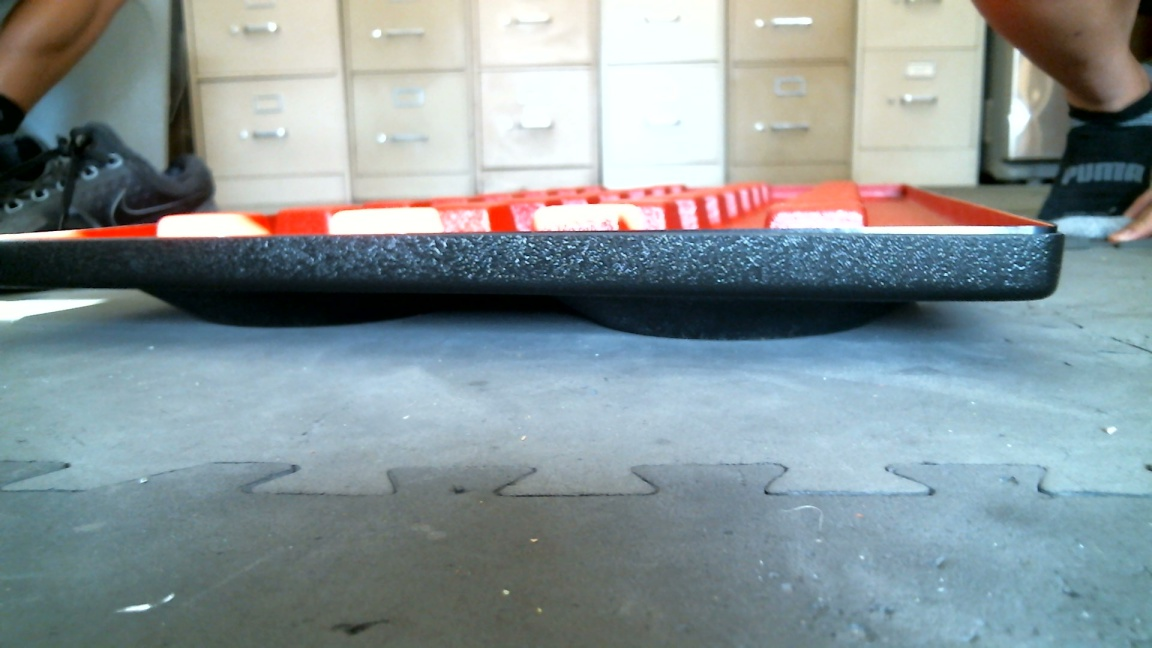red_foundation: (1, 161, 1066, 407)
